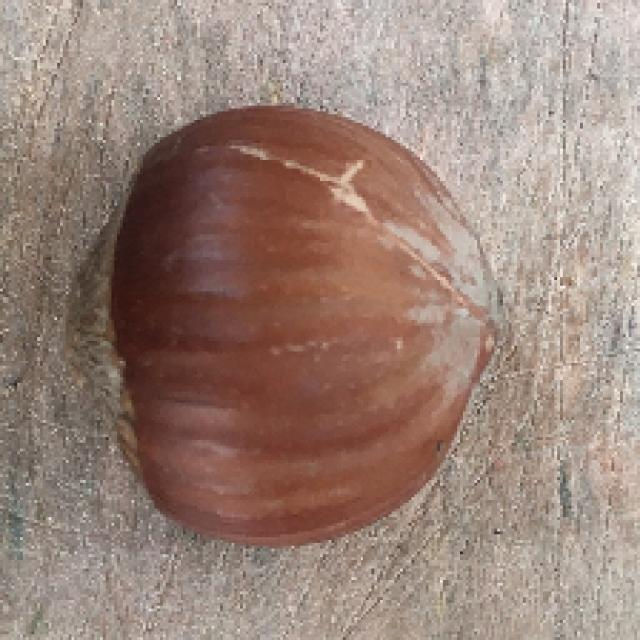qualityHazelnut: (68, 101, 491, 542)
